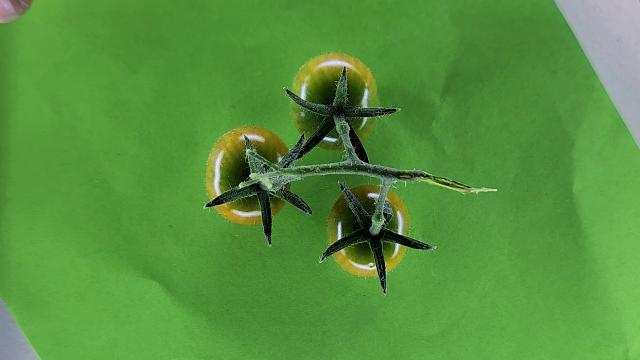Fully Grown: (291, 50, 380, 151), (290, 52, 379, 150), (204, 126, 292, 224), (328, 185, 411, 276)
